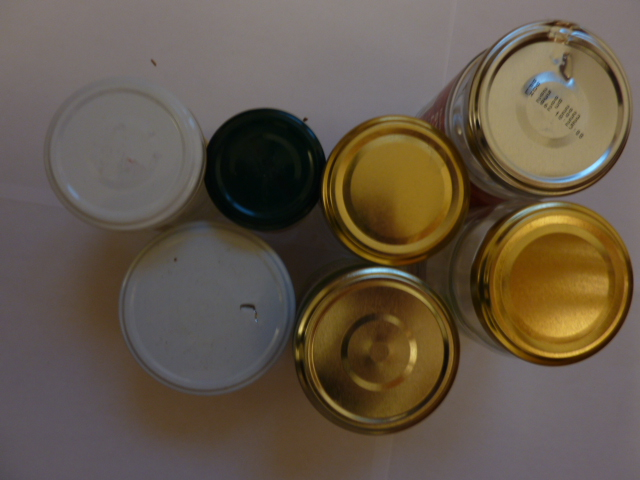damaged: (118, 221, 295, 393)
intact: (44, 80, 204, 231)
